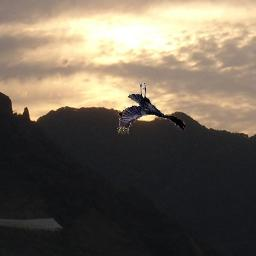Crow: (117, 82, 185, 135)
